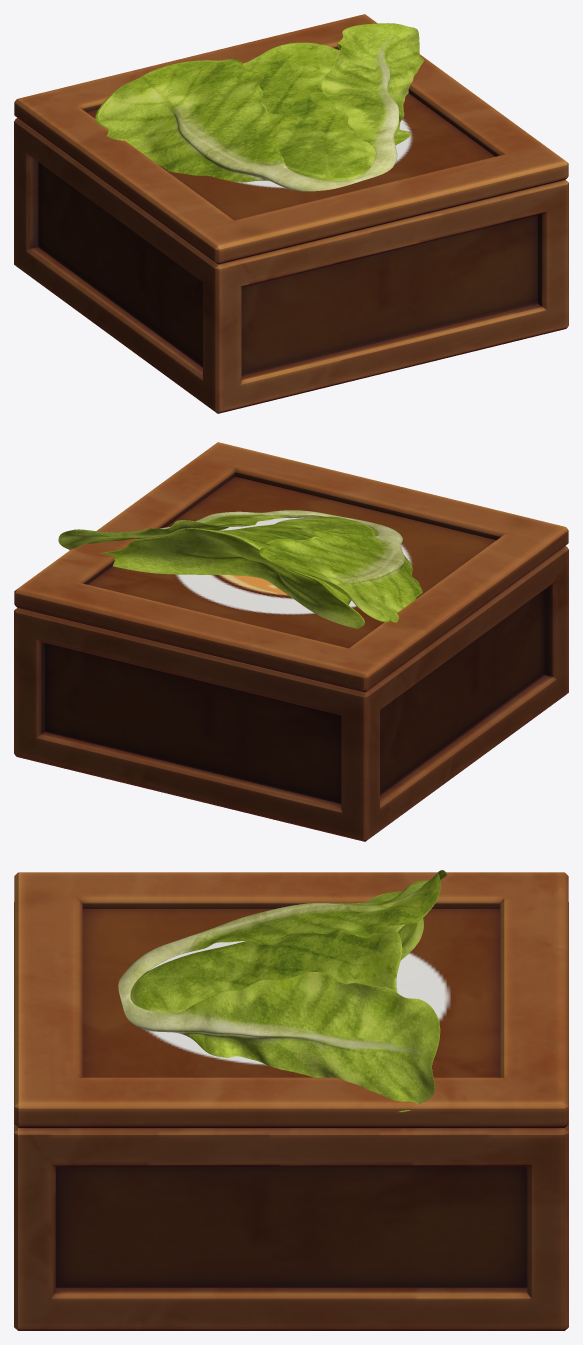
The model's file is SaladeSG.obj.
The picture shows the model from 3 angles, top to bottom: view 1: azimuth 30°, elevation 25°; view 2: azimuth 150°, elevation 25°; view 3: azimuth 270°, elevation 25°; orthographic projection. The views are drawn at different scales.
Visible parts, largest first — view 1: Ingredients_Box, Ingredients_Box_Lid, 10188_LettuceRomaine_v1-L2; view 2: Ingredients_Box, Ingredients_Box_Lid, 10188_LettuceRomaine_v1-L2; view 3: Ingredients_Box, Ingredients_Box_Lid, 10188_LettuceRomaine_v1-L2.
Boxes of the visible parts, left/top/right/bottom form: Ingredients_Box: left=14, top=118, right=568, bottom=413; Ingredients_Box_Lid: left=14, top=14, right=568, bottom=264; 10188_LettuceRomaine_v1-L2: left=95, top=23, right=424, bottom=191; Ingredients_Box: left=14, top=546, right=568, bottom=841; Ingredients_Box_Lid: left=14, top=442, right=568, bottom=692; 10188_LettuceRomaine_v1-L2: left=58, top=510, right=422, bottom=628; Ingredients_Box: left=14, top=902, right=568, bottom=1330; Ingredients_Box_Lid: left=14, top=872, right=568, bottom=1127; 10188_LettuceRomaine_v1-L2: left=118, top=870, right=446, bottom=1112.
Size of the model in its own units: 2.02 by 1.16 by 2.
Materials: 2 (2 with a texture image).
